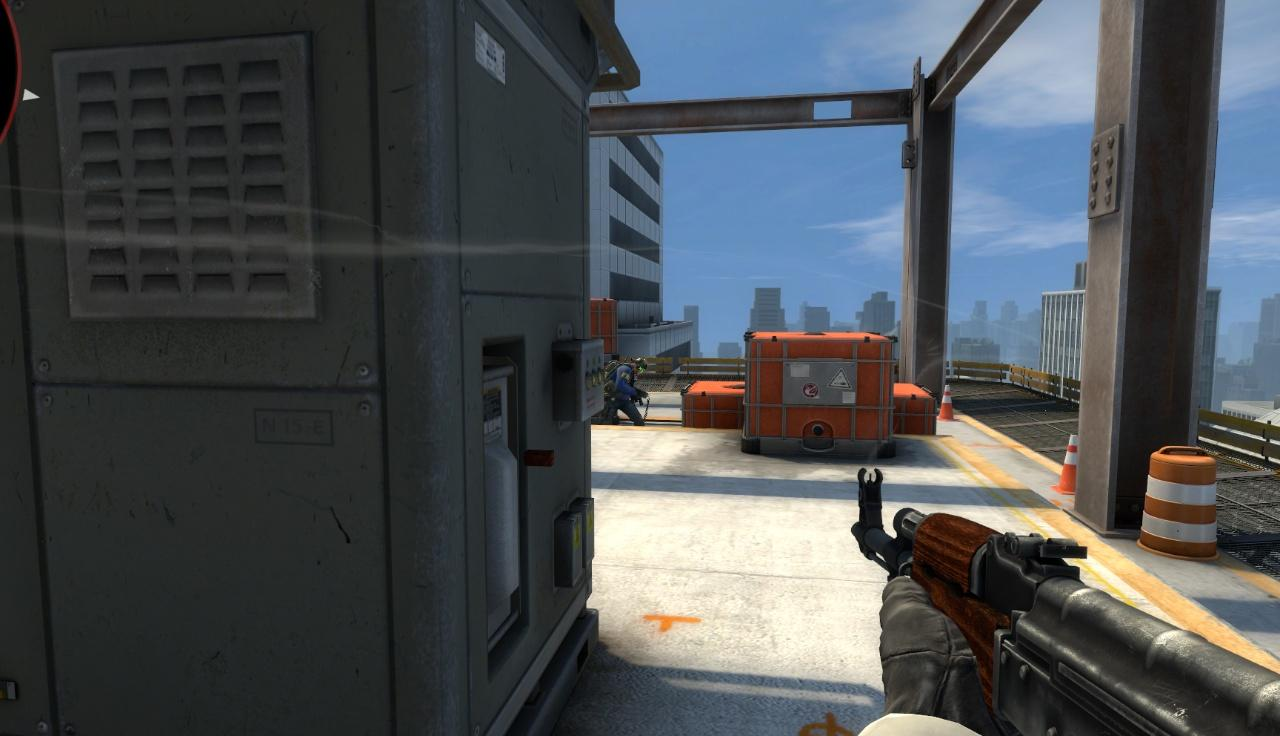ct: (605, 356, 647, 426)
cthead: (632, 356, 646, 375)
rifle: (849, 466, 1280, 736)
